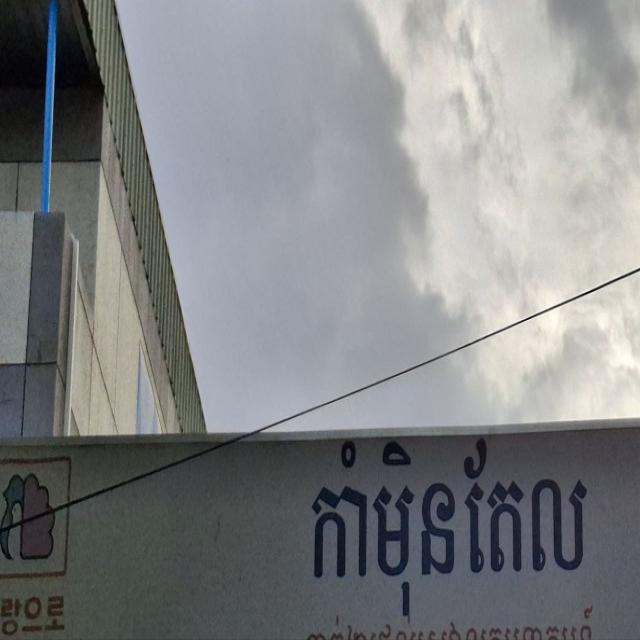Yolov11_80vkh: (286, 412, 613, 628)
